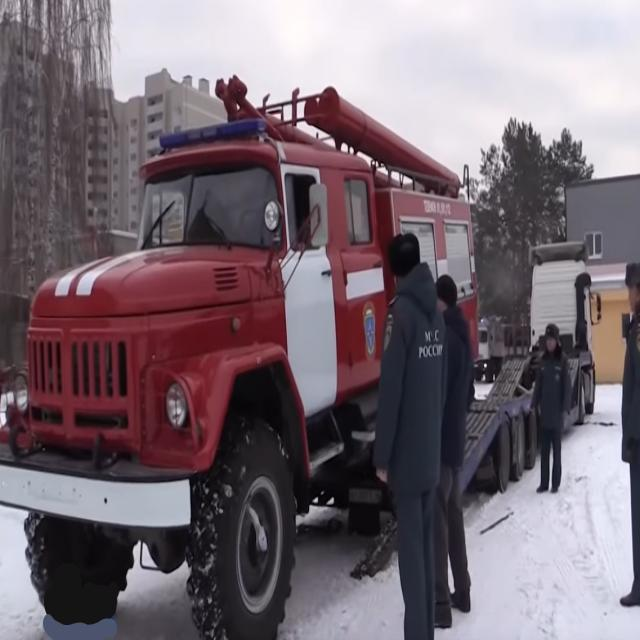fire fighting vehicle: (3, 76, 477, 632)
